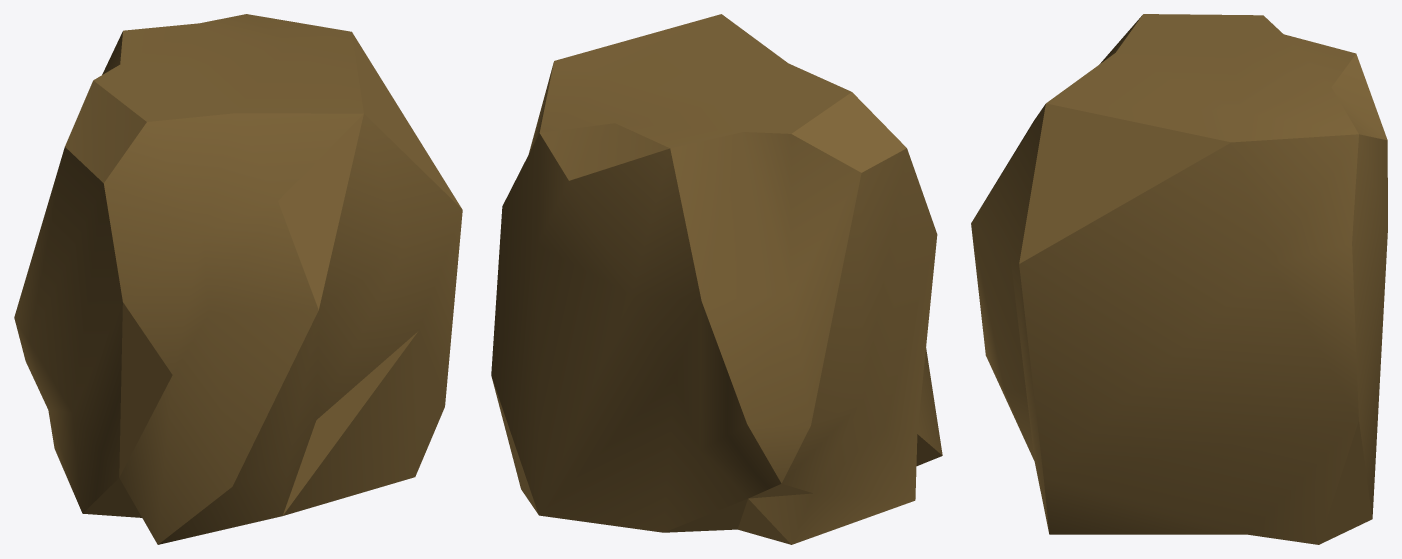
The model's file is RockB2.FBX.
3 views of the same model, side by side, from view 1: azimuth 30°, elevation 25°; view 2: azimuth 150°, elevation 25°; view 3: azimuth 270°, elevation 25° (orthographic). The views are drawn at different scales.
Visible parts, largest first — view 1: GeoSphere025; view 2: GeoSphere025; view 3: GeoSphere025.
Part boxes in pixels (bbox=[...]): GeoSphere025: bbox=[14, 14, 462, 544]; GeoSphere025: bbox=[491, 14, 942, 544]; GeoSphere025: bbox=[971, 14, 1387, 544].
Bounding box in the file's own units: 229 × 257 × 239.
